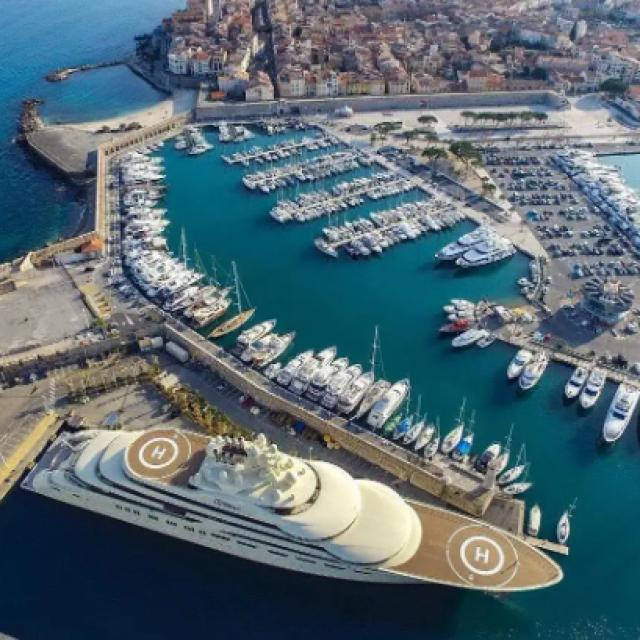houseboat: (278, 346, 412, 427), (207, 306, 296, 366), (397, 412, 478, 458), (436, 226, 518, 270), (476, 439, 536, 493), (440, 291, 496, 348), (602, 376, 640, 447), (564, 359, 600, 404), (507, 344, 543, 388), (526, 500, 545, 536), (558, 506, 574, 545)
passenger ship: (18, 422, 570, 596)
